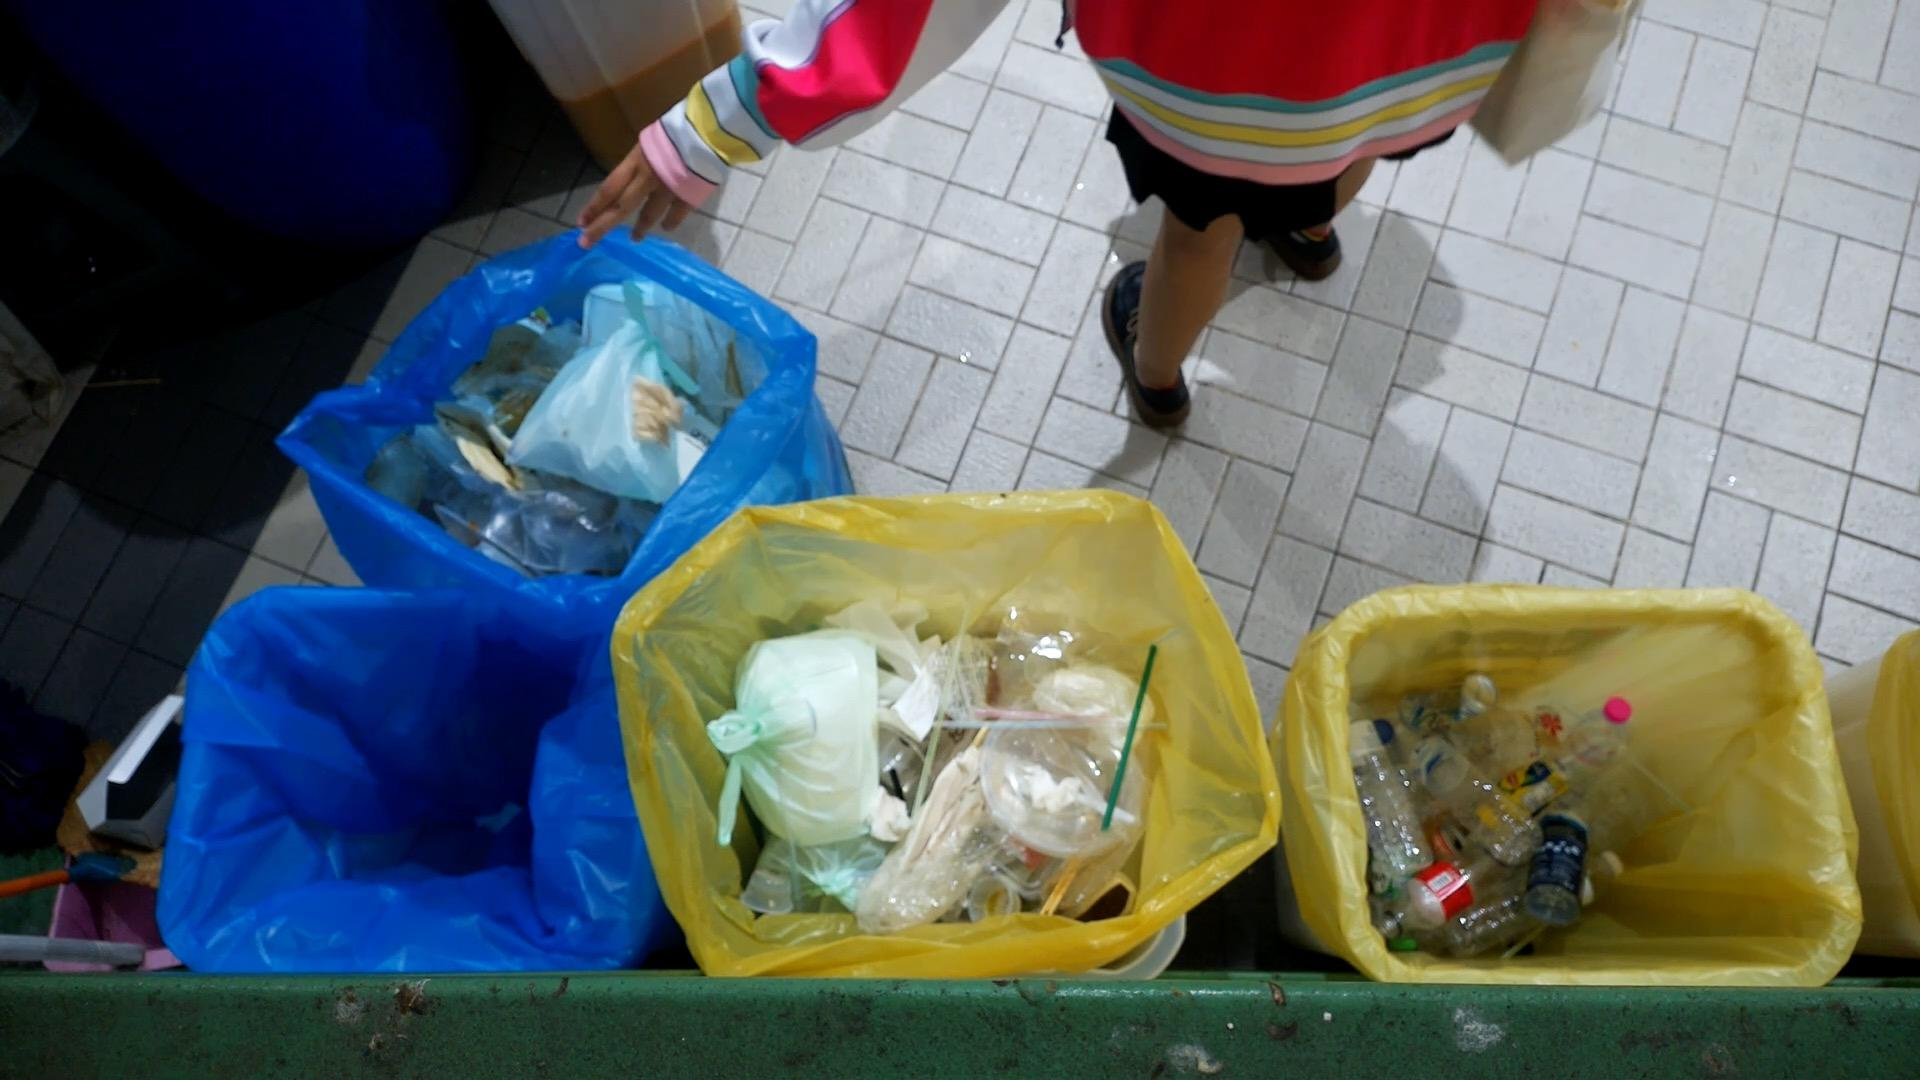can: (1526, 811, 1592, 926)
filled plastic bag: (506, 278, 704, 508), (708, 628, 880, 852)
food container: (977, 709, 1153, 857)
plastic bag: (851, 744, 1030, 939)
plastic bottle: (1396, 727, 1545, 868), (1375, 827, 1528, 944), (1342, 707, 1437, 876), (1552, 696, 1634, 814)
plastic cutlery: (1052, 775, 1138, 824)
sticks: (1038, 848, 1096, 918)
straw: (1096, 641, 1160, 833), (919, 719, 1117, 733), (973, 705, 1109, 720)
tissue paper: (628, 371, 692, 452), (1004, 764, 1058, 810)
